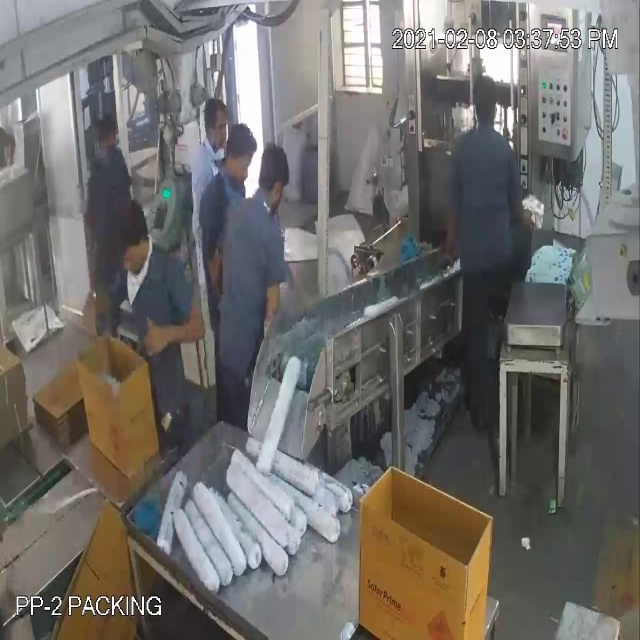Sin_guantes: (137, 303, 212, 361), (83, 275, 136, 341)
